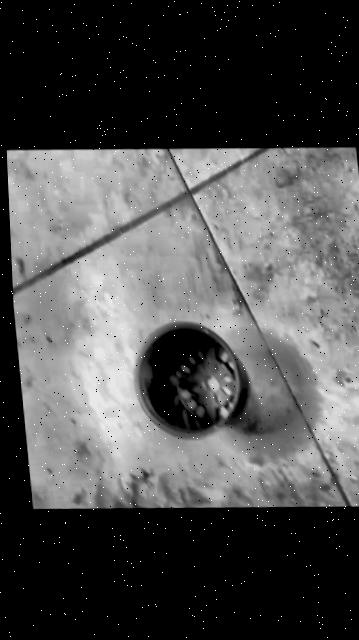pot: (128, 317, 252, 445)
